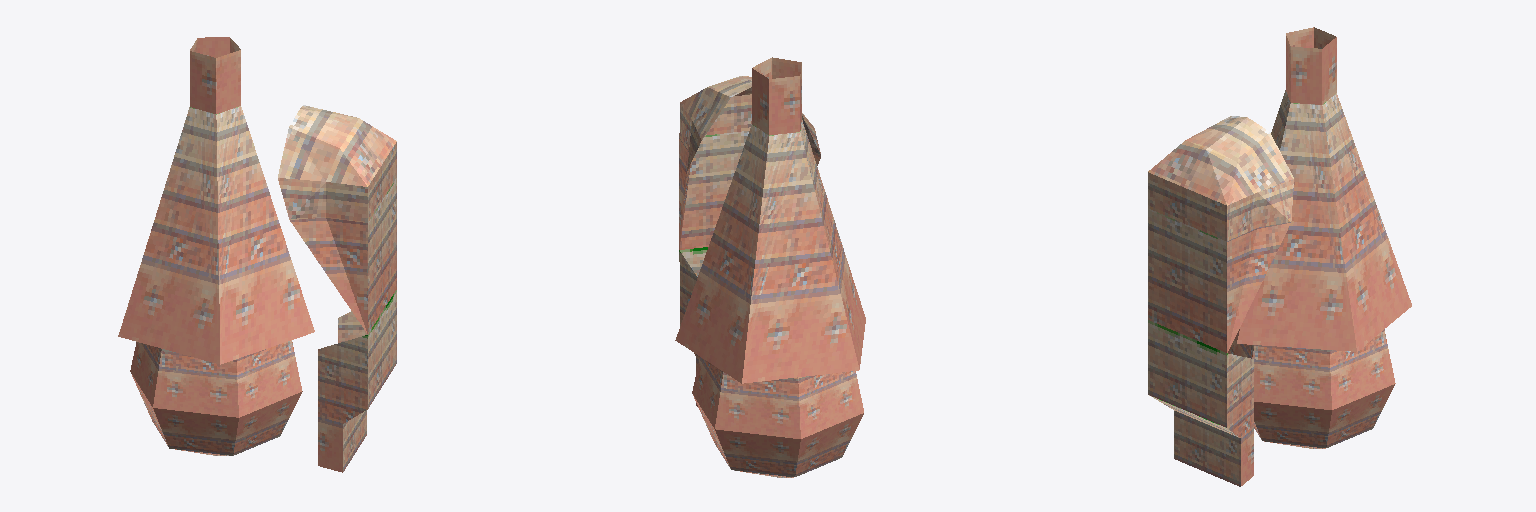
3 renders of one model, left to right at view 1: azimuth 30°, elevation 25°; view 2: azimuth 150°, elevation 25°; view 3: azimuth 270°, elevation 25°, orthographic.
Parts seen in each view (by area): view 1: Mesh_mamma0_DS_Low_Poly_Textured; view 2: Mesh_mamma0_DS_Low_Poly_Textured; view 3: Mesh_mamma0_DS_Low_Poly_Textured.
Boxes of the visible parts, x1,y1,x2,y2 form: Mesh_mamma0_DS_Low_Poly_Textured: [118, 37, 396, 472]; Mesh_mamma0_DS_Low_Poly_Textured: [675, 57, 865, 477]; Mesh_mamma0_DS_Low_Poly_Textured: [1148, 27, 1411, 486].
Size of the model in its own units: 0.4559 by 0.7769 by 0.4555.
2 materials, 1 textured.